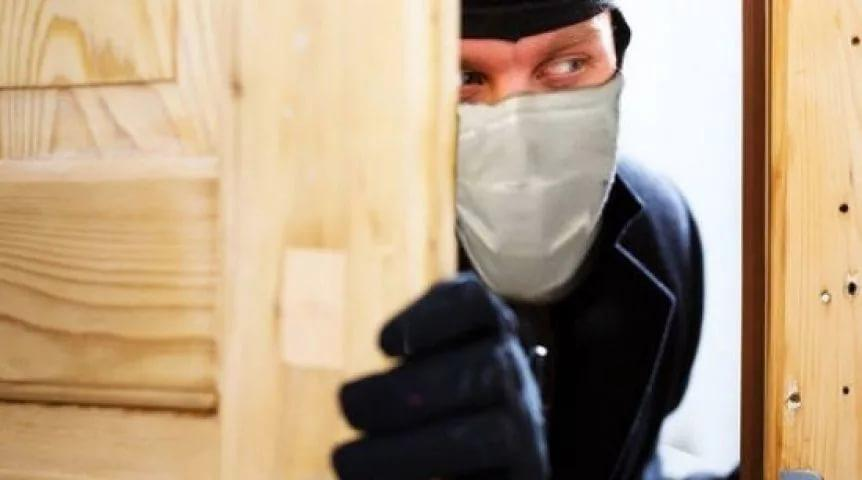mask: (450, 5, 618, 301)
